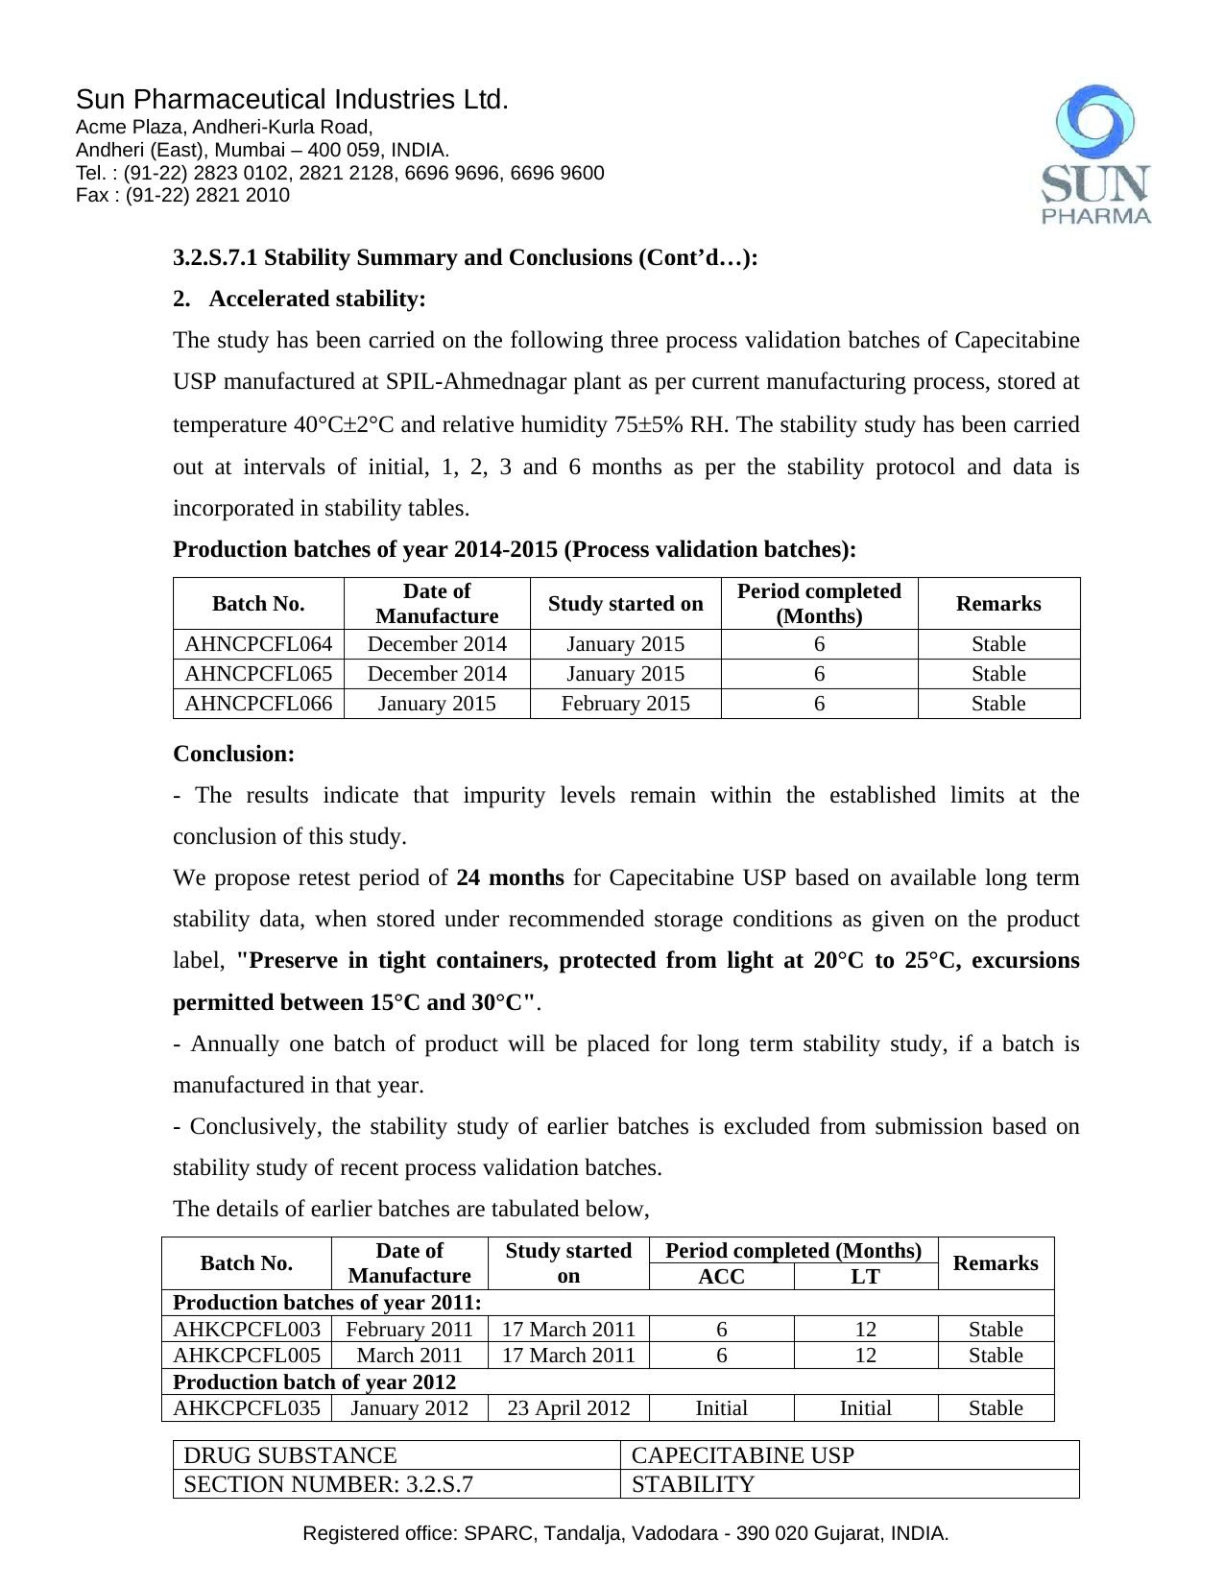full_lined: (171, 575, 1083, 720), (172, 1440, 1081, 1500)
merged_cells: (159, 1235, 1056, 1423)
